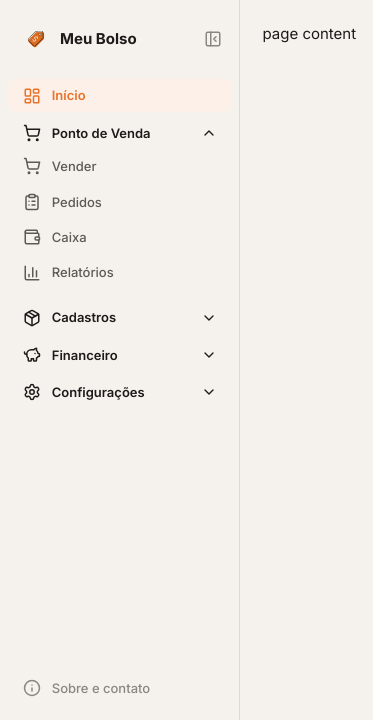
AppShell sidebar collapse › expands again from the compact state
Click the button named "Recolher menu" at (213, 39), box [198,24,228,54]
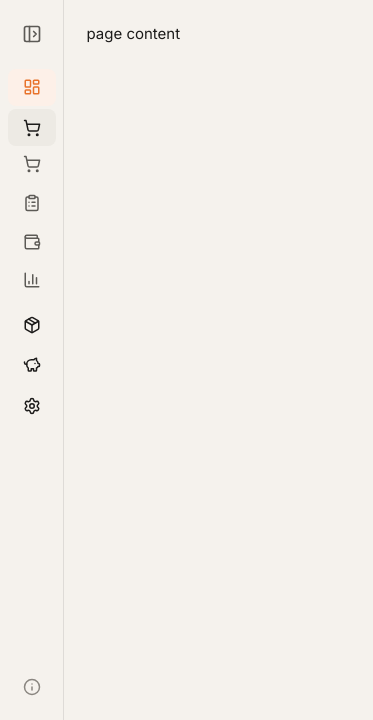
Click the button named "Expandir menu" at (32, 34), box [8,15,56,54]
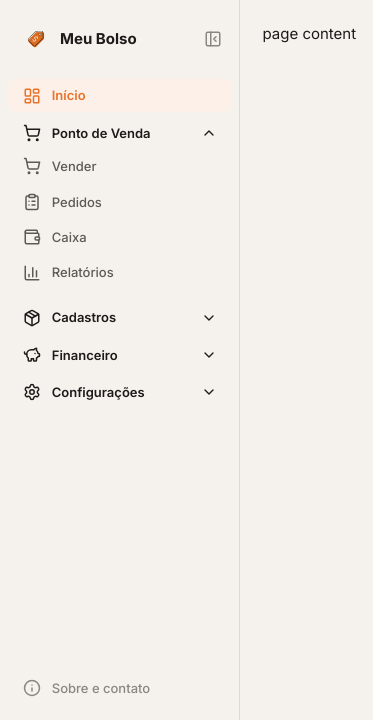
expect the text "Meu Bolso" is shown: met, box [60,29,137,48]
